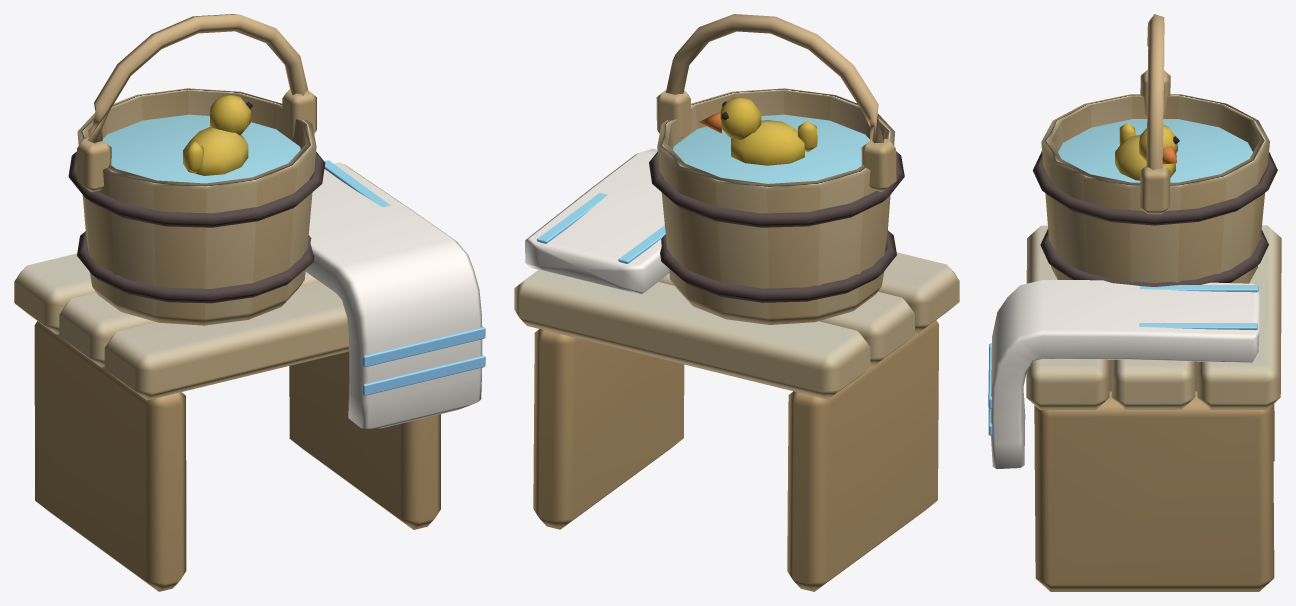
Rendered from furn-cypressBucket.glb.
3 views of the same model, side by side, from view 1: azimuth 30°, elevation 25°; view 2: azimuth 150°, elevation 25°; view 3: azimuth 270°, elevation 25° (orthographic). The views are drawn at different scales.
Parts seen in each view (by area): view 1: furn; view 2: furn; view 3: furn.
Part boxes in pixels (x1,y1,x2,y2): furn: (14, 14, 485, 591); furn: (514, 14, 959, 591); furn: (988, 14, 1281, 591).
Bounding box in the file's own units: 0.3607 × 0.5386 × 0.2948.
